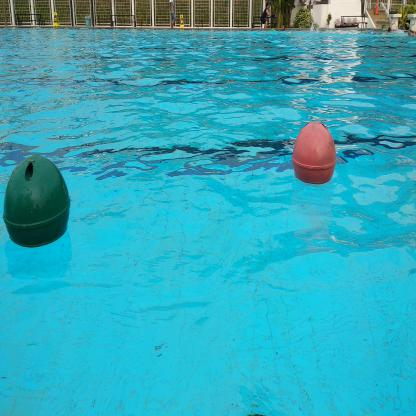green_buoy: (3, 149, 72, 249)
red_buoy: (289, 116, 340, 190)
